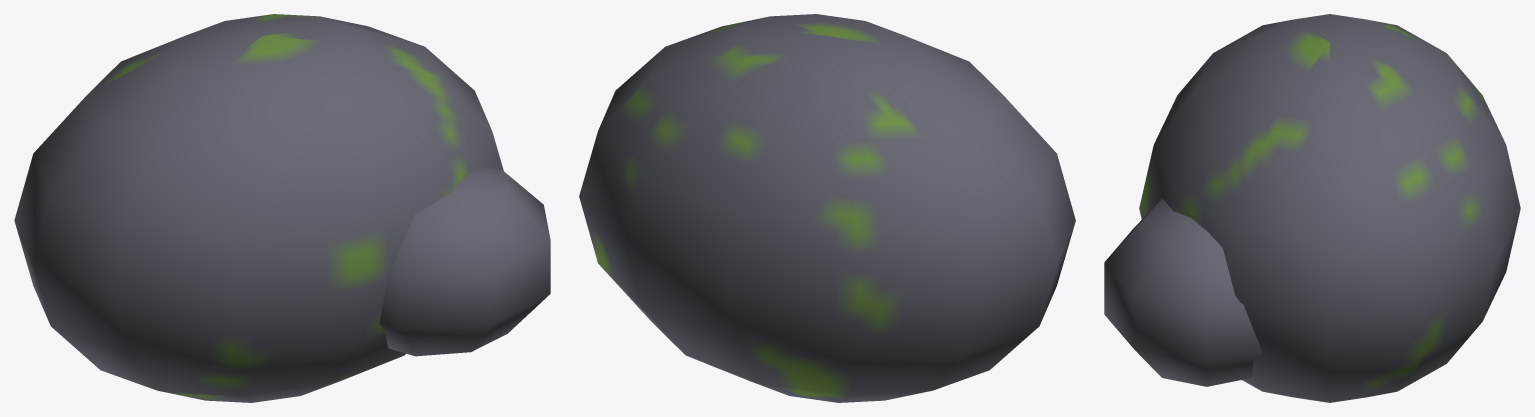
Rendered from prop_rock4_4780.glb.
3 renders of one model, left to right at view 1: azimuth 30°, elevation 25°; view 2: azimuth 150°, elevation 25°; view 3: azimuth 270°, elevation 25°, orthographic. The views are drawn at different scales.
Visible parts, largest first — view 1: prop_rock4_4780; view 2: prop_rock4_4780; view 3: prop_rock4_4780.
Part boxes in pixels (left/top/right/bottom): prop_rock4_4780: left=14, top=14, right=550, bottom=402; prop_rock4_4780: left=579, top=14, right=1075, bottom=402; prop_rock4_4780: left=1104, top=14, right=1520, bottom=402.
Bounding box in the file's own units: 0.73 × 0.5254 × 0.5976.
1 material, 1 textured.
